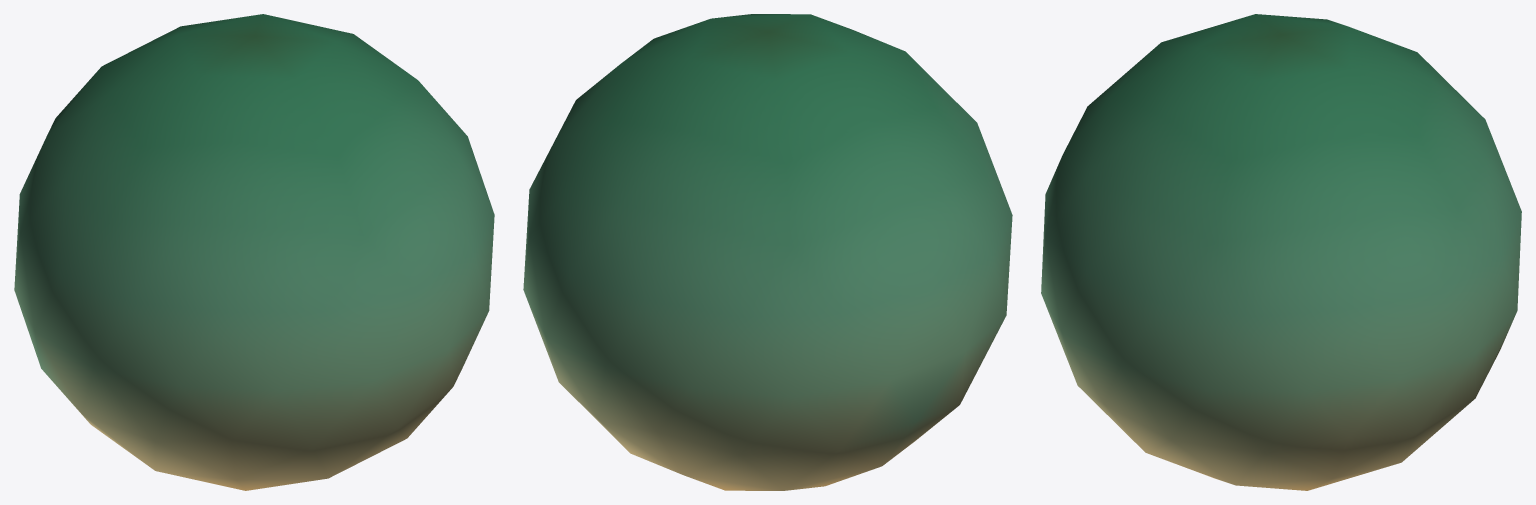
The model's file is SkyDome14.dae.
3 views of the same model, side by side, from view 1: azimuth 30°, elevation 25°; view 2: azimuth 150°, elevation 25°; view 3: azimuth 270°, elevation 25° (orthographic).
Parts seen in each view (by area): view 1: F3:GeoDome1-0; view 2: F3:GeoDome1-0; view 3: F3:GeoDome1-0.
Part boxes in pixels (left/top/right/bottom): F3:GeoDome1-0: left=14, top=14, right=494, bottom=490; F3:GeoDome1-0: left=523, top=14, right=1012, bottom=490; F3:GeoDome1-0: left=1041, top=14, right=1521, bottom=490.
Bounding box in the file's own units: 25 × 25 × 25.
